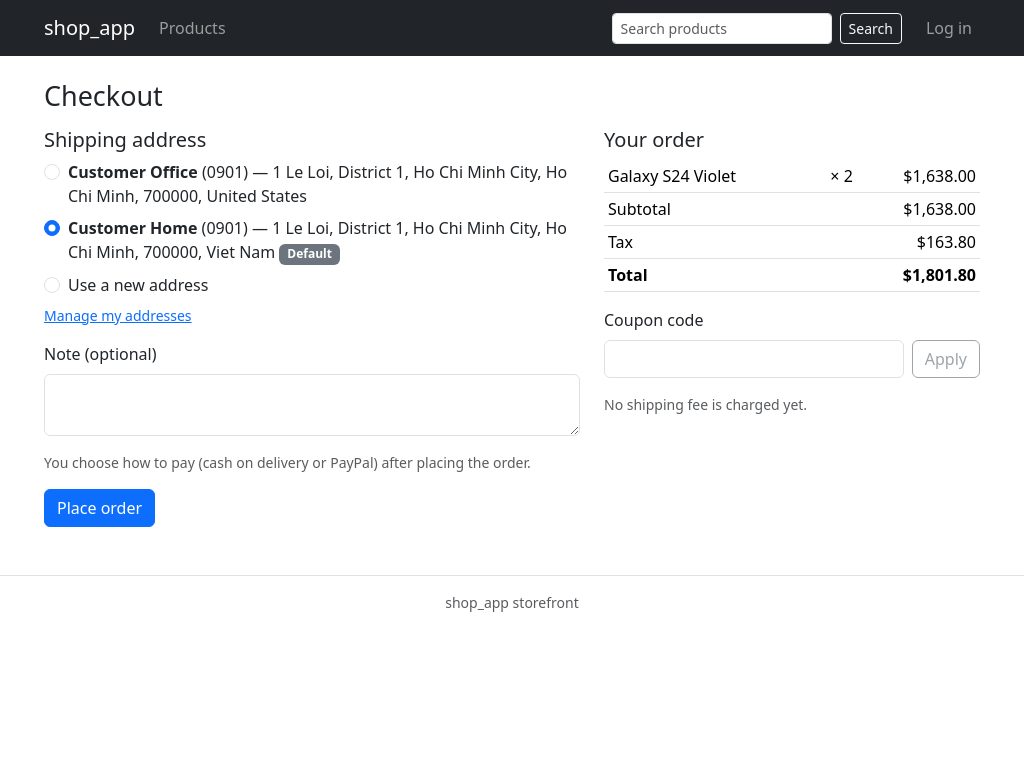
Scenario: Checkout page › coupon › applying a code re-prices the order on the server and shows the discount line
Check: the button "Apply" is disabled, box left=912, top=340, right=980, bottom=378
Check: the cell with test id "checkout-tax" reads "$163.80", box left=917, top=231, right=976, bottom=253
Type " save10 " into the field labelled "Coupon code".
click(754, 359); type(" save10 ")  # box left=604, top=340, right=904, bottom=378
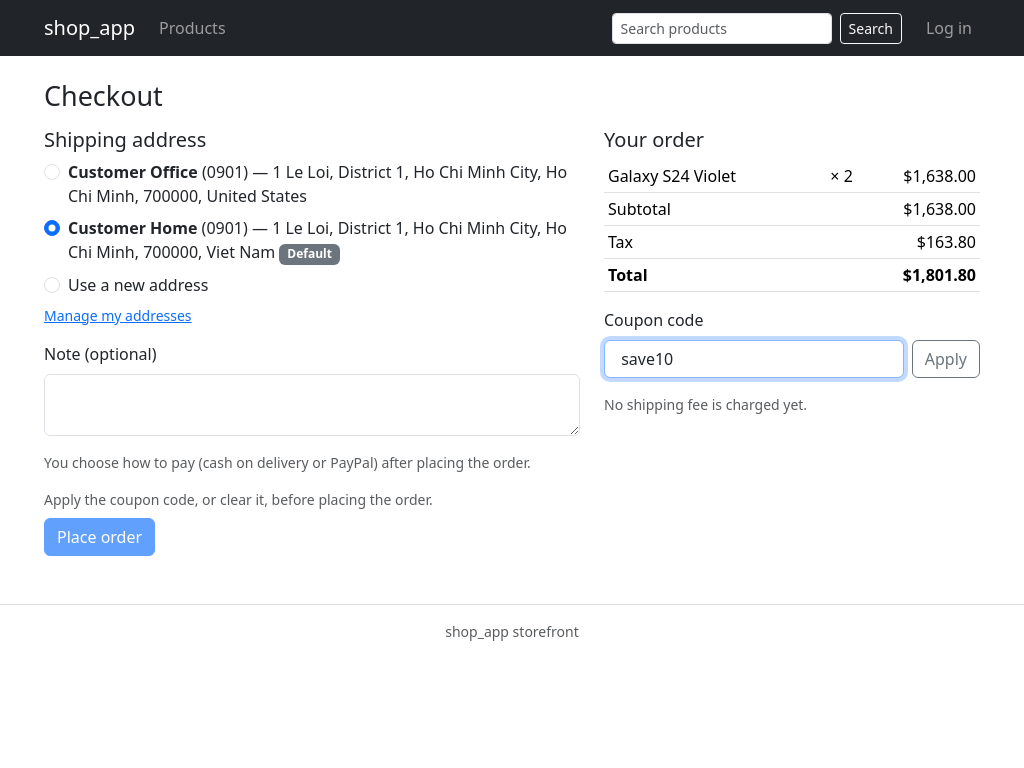
Click the button "Apply".
click(946, 359)  # box left=912, top=340, right=980, bottom=378
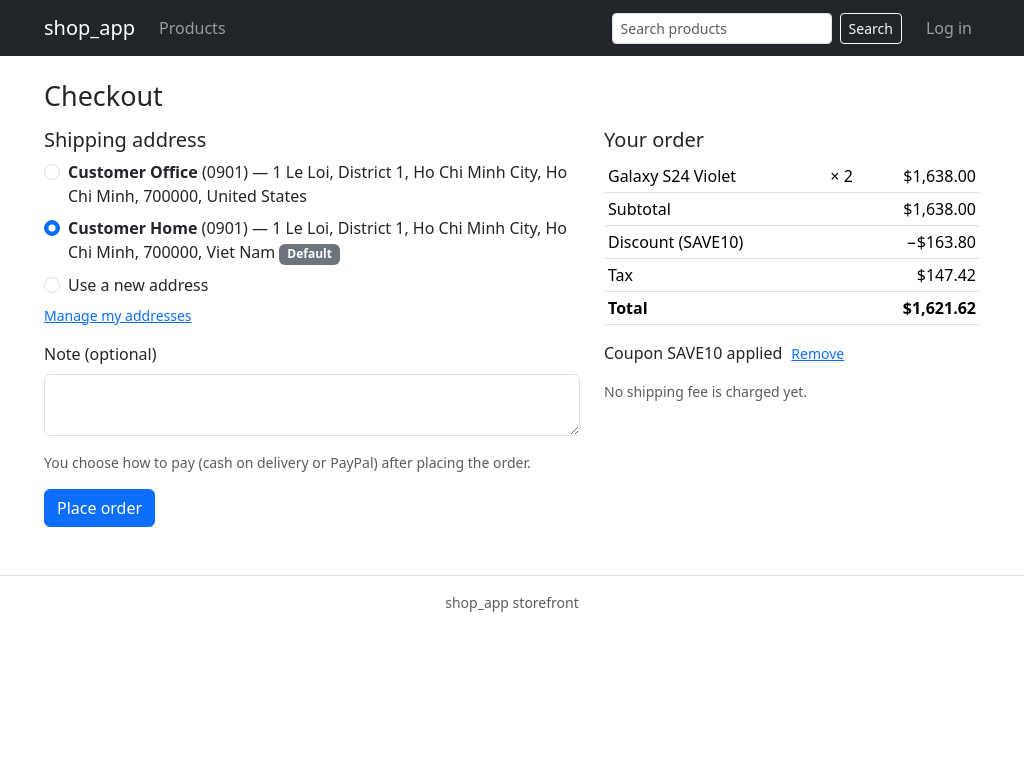
Check: the cell with test id "checkout-discount" reads "−$163.80", box left=857, top=226, right=980, bottom=259
Check: the cell with test id "checkout-tax" reads "$147.42", box left=917, top=264, right=976, bottom=286
Check: the column heading with test id "checkout-total" reads "$1,621.62", box left=903, top=297, right=976, bottom=319
